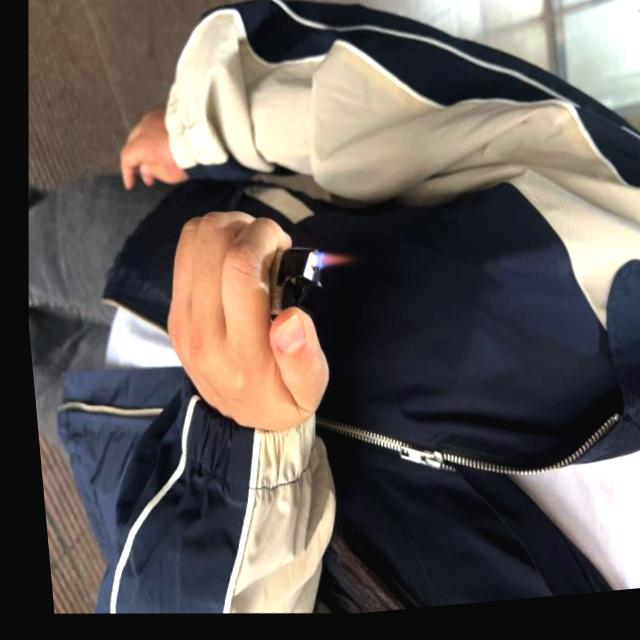Fire: (309, 254, 350, 276)
